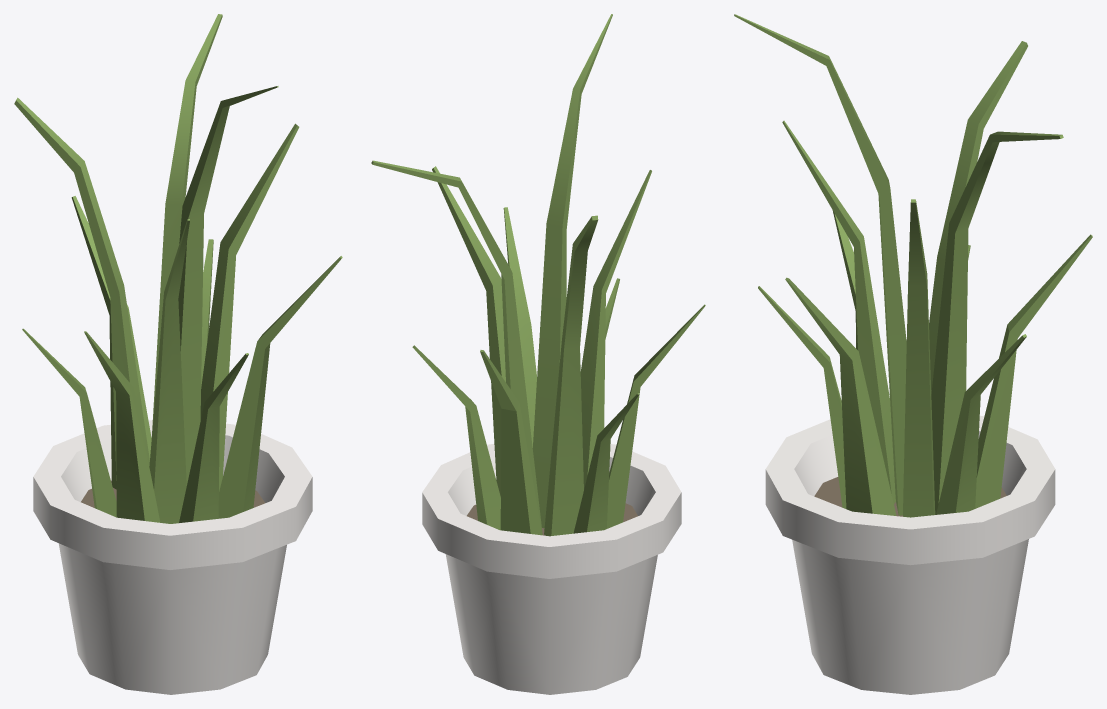
The model's file is SM_Prop_PotPlant_04.obj.
The picture shows the model from 3 angles, left to right: view 1: azimuth 30°, elevation 25°; view 2: azimuth 150°, elevation 25°; view 3: azimuth 270°, elevation 25°; orthographic projection. The views are drawn at different scales.
Parts seen in each view (by area): view 1: SM_Prop_PotPlant_04_Mat_SwatchOverlay_PolygonTown_01_Inst; view 2: SM_Prop_PotPlant_04_Mat_SwatchOverlay_PolygonTown_01_Inst; view 3: SM_Prop_PotPlant_04_Mat_SwatchOverlay_PolygonTown_01_Inst.
Boxes of the visible parts, x1=… form: SM_Prop_PotPlant_04_Mat_SwatchOverlay_PolygonTown_01_Inst: x1=14, y1=14, x2=342, y2=694; SM_Prop_PotPlant_04_Mat_SwatchOverlay_PolygonTown_01_Inst: x1=371, y1=14, x2=705, y2=694; SM_Prop_PotPlant_04_Mat_SwatchOverlay_PolygonTown_01_Inst: x1=734, y1=14, x2=1092, y2=694.
Bounding box in the file's own units: 0.2769 × 0.6523 × 0.3265.
1 material, 1 textured.
